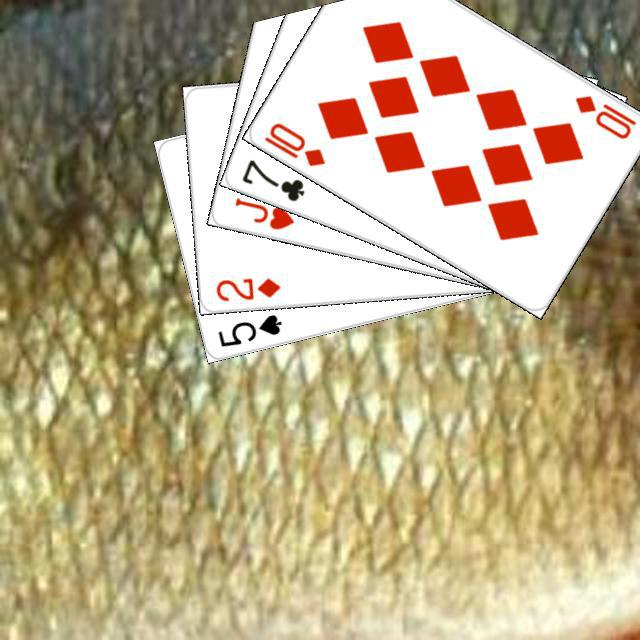10d: (259, 117, 327, 169), (570, 90, 638, 141)
2d: (211, 272, 282, 303)
5s: (213, 309, 284, 349)
7c: (236, 154, 306, 204)
Jh: (229, 193, 296, 232)
